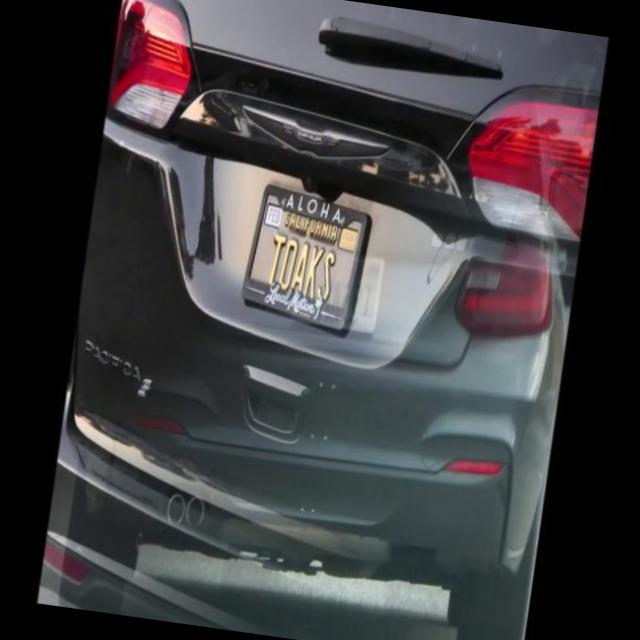LicensePlate: (246, 176, 367, 328)
